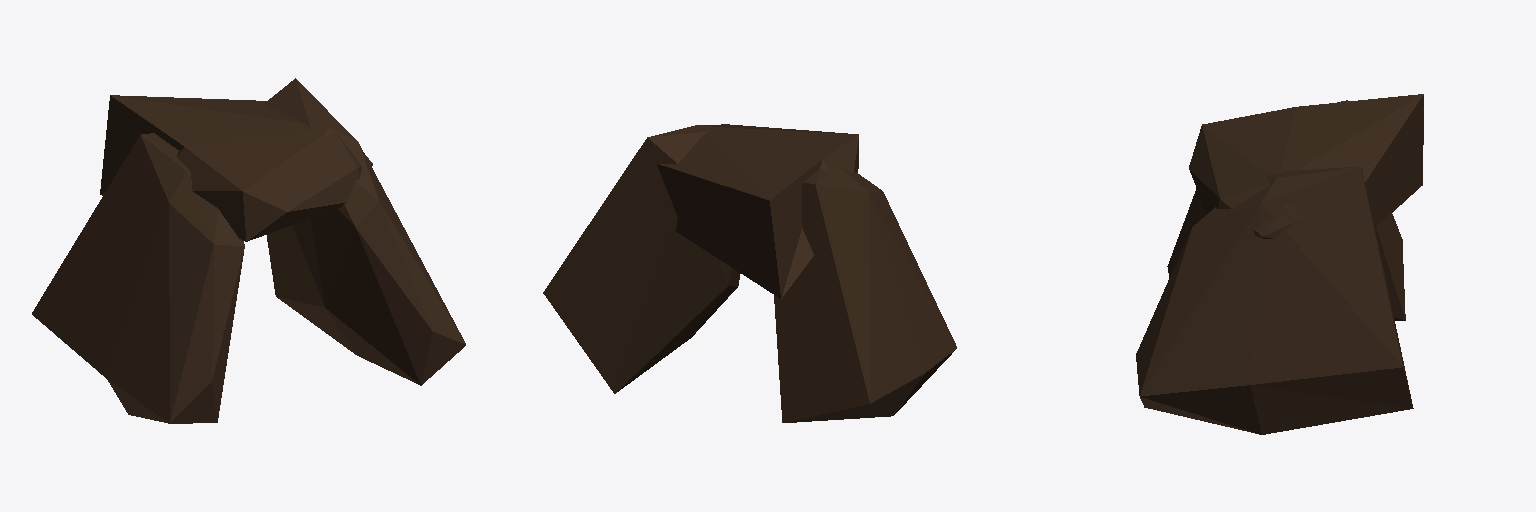
Rendered from cave2.obj.
3 views of the same model, side by side, from view 1: azimuth 30°, elevation 25°; view 2: azimuth 150°, elevation 25°; view 3: azimuth 270°, elevation 25° (orthographic).
Parts seen in each view (by area): view 1: Object.2, Object.1, Object.3; view 2: Object.2, Object.1, Object.3; view 3: Object.1, Object.3, Object.2.
Part boxes in pixels (x1,y1,x2,y2): Object.2: (32,133,244,423); Object.1: (264,78,465,385); Object.3: (100,95,372,241); Object.2: (774,166,956,422); Object.1: (543,125,740,393); Object.3: (657,124,858,298); Object.1: (1136,166,1413,434); Object.3: (1189,94,1423,238); Object.2: (1167,100,1405,320).
Size of the model in its own units: 4.85 by 3.65 by 3.71.